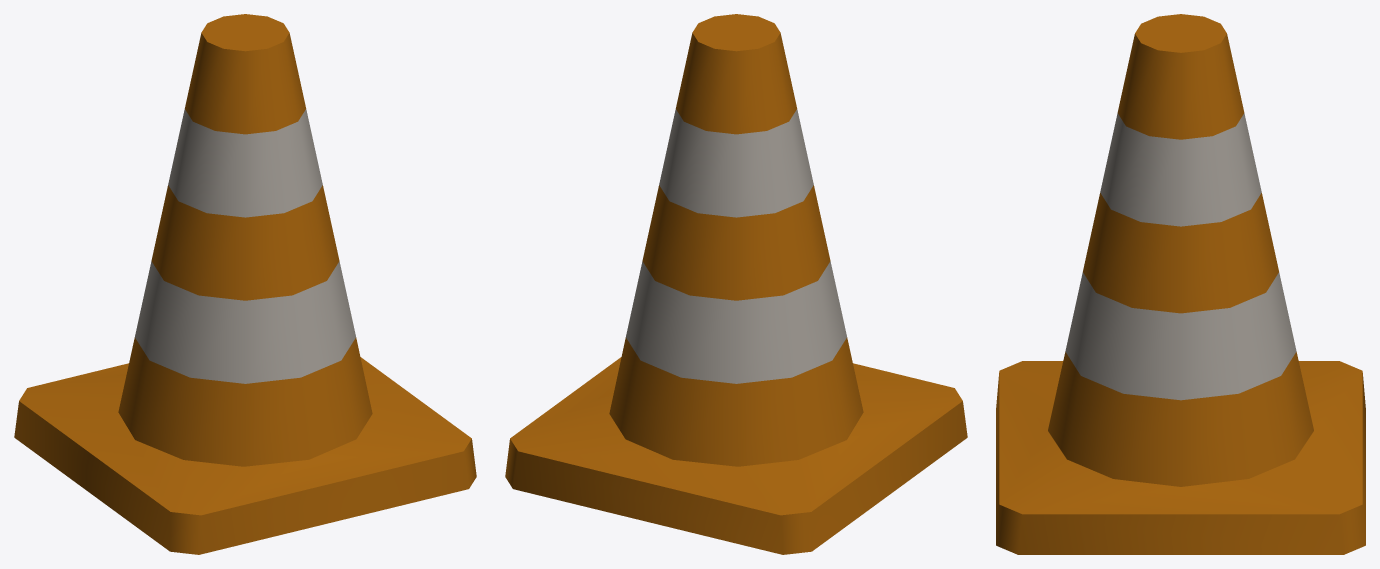
The model's file is roadcone_01.fbx.
3 views of the same model, side by side, from view 1: azimuth 30°, elevation 25°; view 2: azimuth 150°, elevation 25°; view 3: azimuth 270°, elevation 25° (orthographic). The views are drawn at different scales.
Parts seen in each view (by area): view 1: roadcone_01; view 2: roadcone_01; view 3: roadcone_01.
Boxes of the visible parts, x1,y1,x2,y2 form: roadcone_01: (14,14,476,554); roadcone_01: (505,14,967,554); roadcone_01: (996,14,1365,554).
Bounding box in the file's own units: 47.78 × 63.23 × 47.78.
